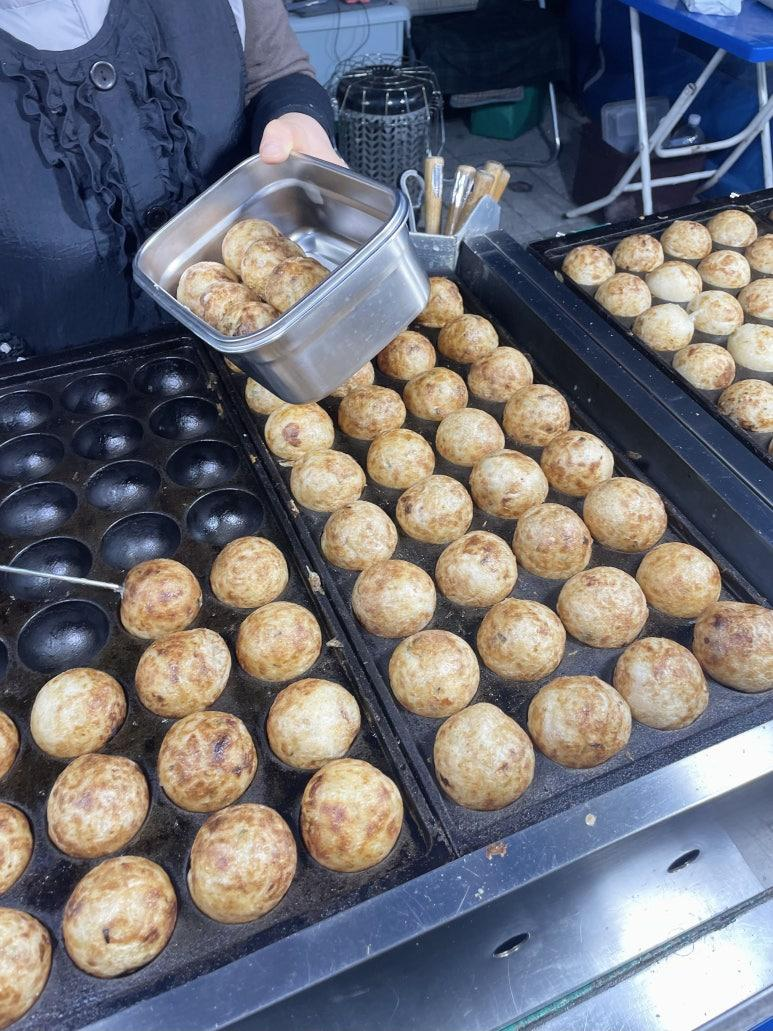Lunch Box: (134, 155, 429, 402)
